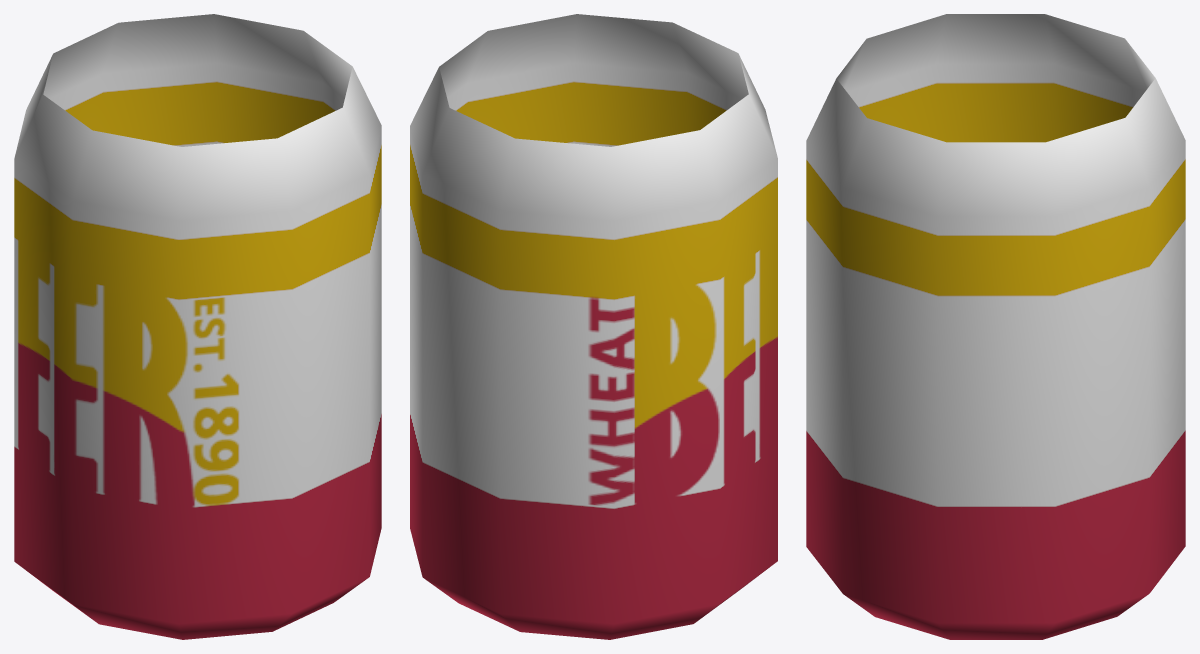
File: Beer_Can_04.fbx
3 renders of one model, left to right at view 1: azimuth 30°, elevation 25°; view 2: azimuth 150°, elevation 25°; view 3: azimuth 270°, elevation 25°, orthographic.
Visible parts, largest first — view 1: Beer_Can_04; view 2: Beer_Can_04; view 3: Beer_Can_04.
Boxes of the visible parts, left/top/right/bottom form: Beer_Can_04: left=14, top=14, right=381, bottom=639; Beer_Can_04: left=410, top=14, right=777, bottom=639; Beer_Can_04: left=806, top=14, right=1185, bottom=639.
Size of the model in its own units: 34.13 by 52.33 by 35.85.
